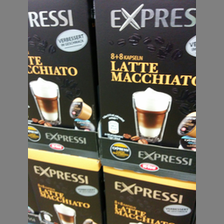coffee: (94, 1, 195, 172), (29, 1, 98, 159), (28, 148, 101, 224), (102, 166, 196, 224)
